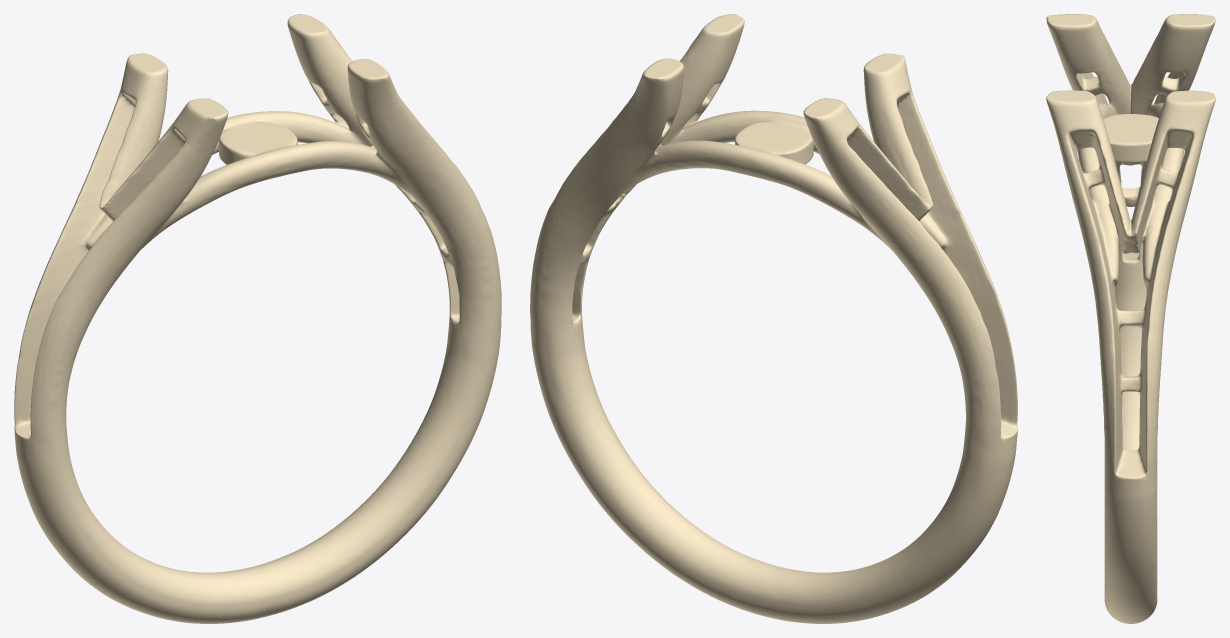
The model's file is Shank_Split_Channel_B_Single Halo_Band.glb.
3 renders of one model, left to right at view 1: azimuth 30°, elevation 25°; view 2: azimuth 150°, elevation 25°; view 3: azimuth 270°, elevation 25°, orthographic.
Size of the model in its own units: 0.0212 by 0.0232 by 0.0066.
